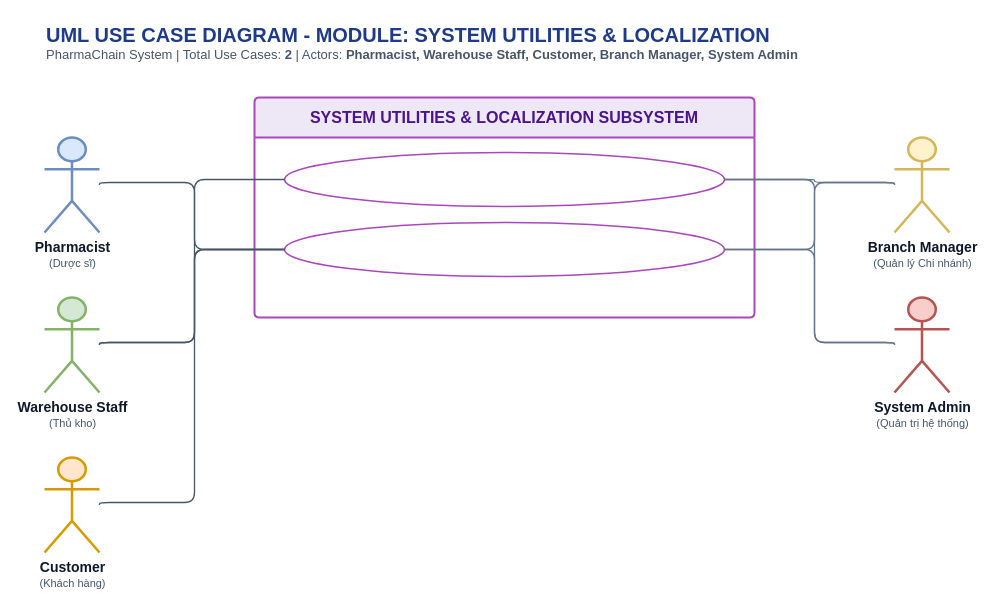
The diagram is 994 pixels wide and 607 high, and some of its shapes have lost their labels. The centre of each missing label's shape, as x and y in pixels:
"[UC-119] Print secondary barcode labels for imported pharmaceuticals" belongs at point (504, 179).
"[UC-120] Multi-language UI support (Vietnamese & English)" belongs at point (504, 249).
